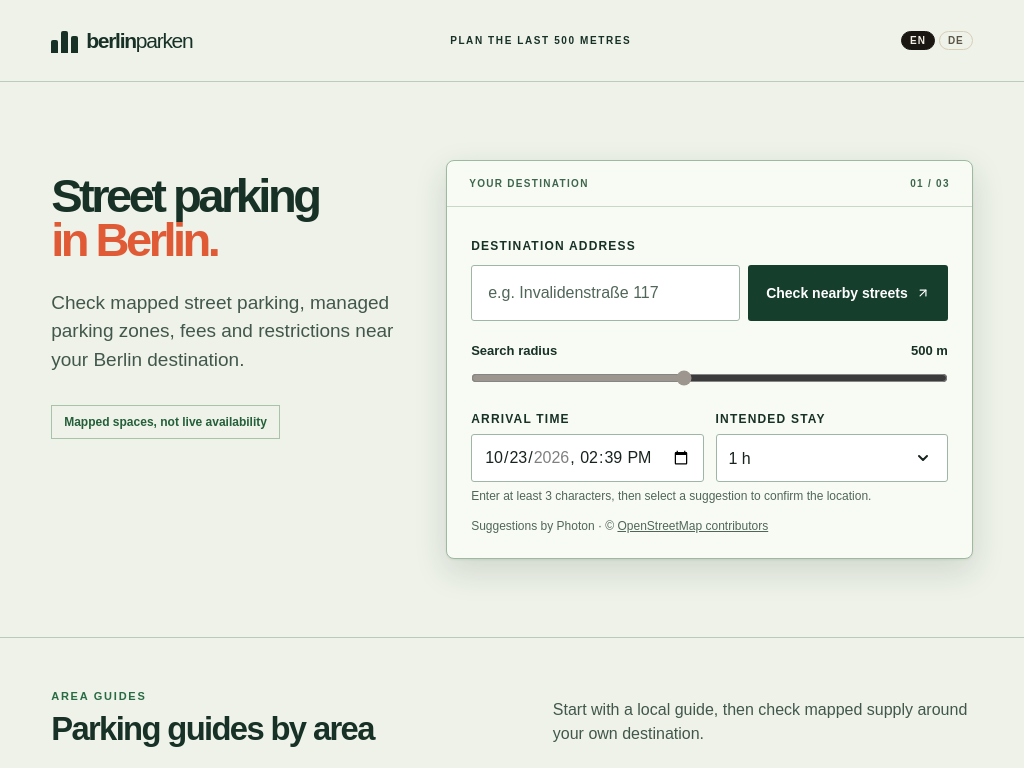
it: SignalPage › focuses and describes the address field when submitted without a suggestion
The image size is (1024, 768).
Click the button "Check nearby streets" at x=848, y=293, box [748,265,948,321]
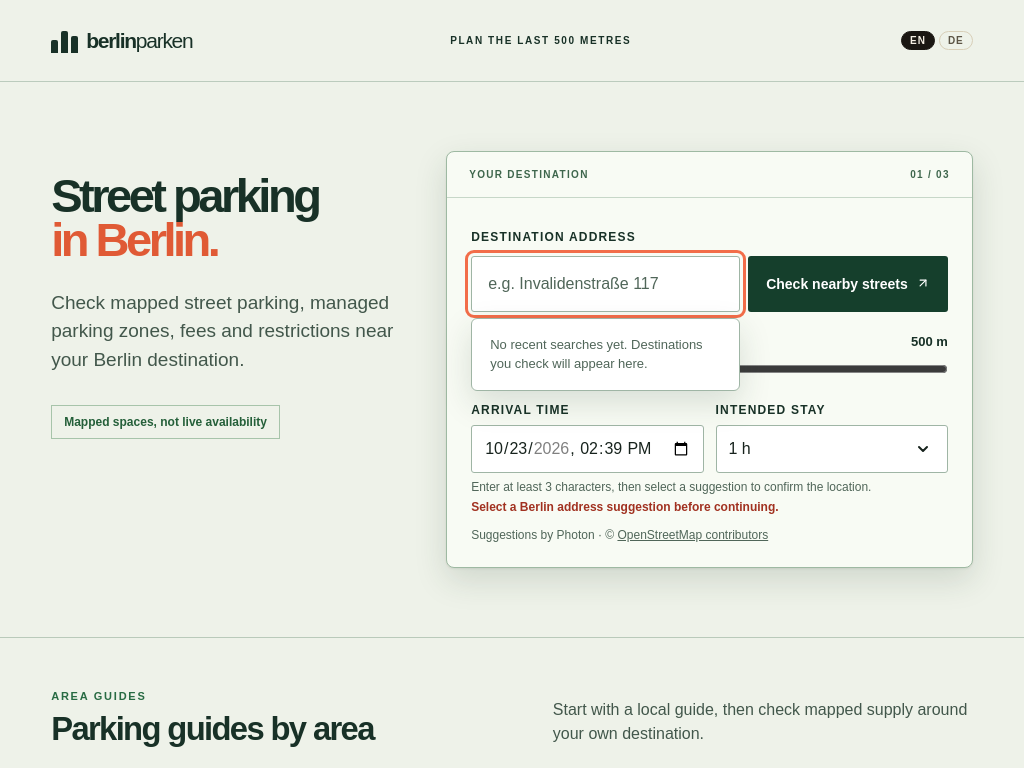
Check: the text "Select a Berlin address suggestion before continuing." is shown, box [471,500,779,514]
